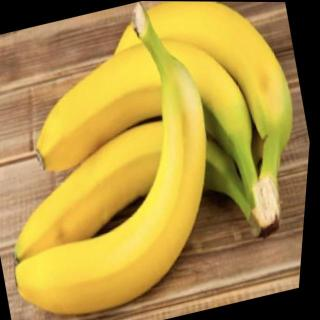banana: (0, 64, 250, 320), (14, 18, 268, 200), (0, 100, 255, 274), (87, 1, 310, 179)
